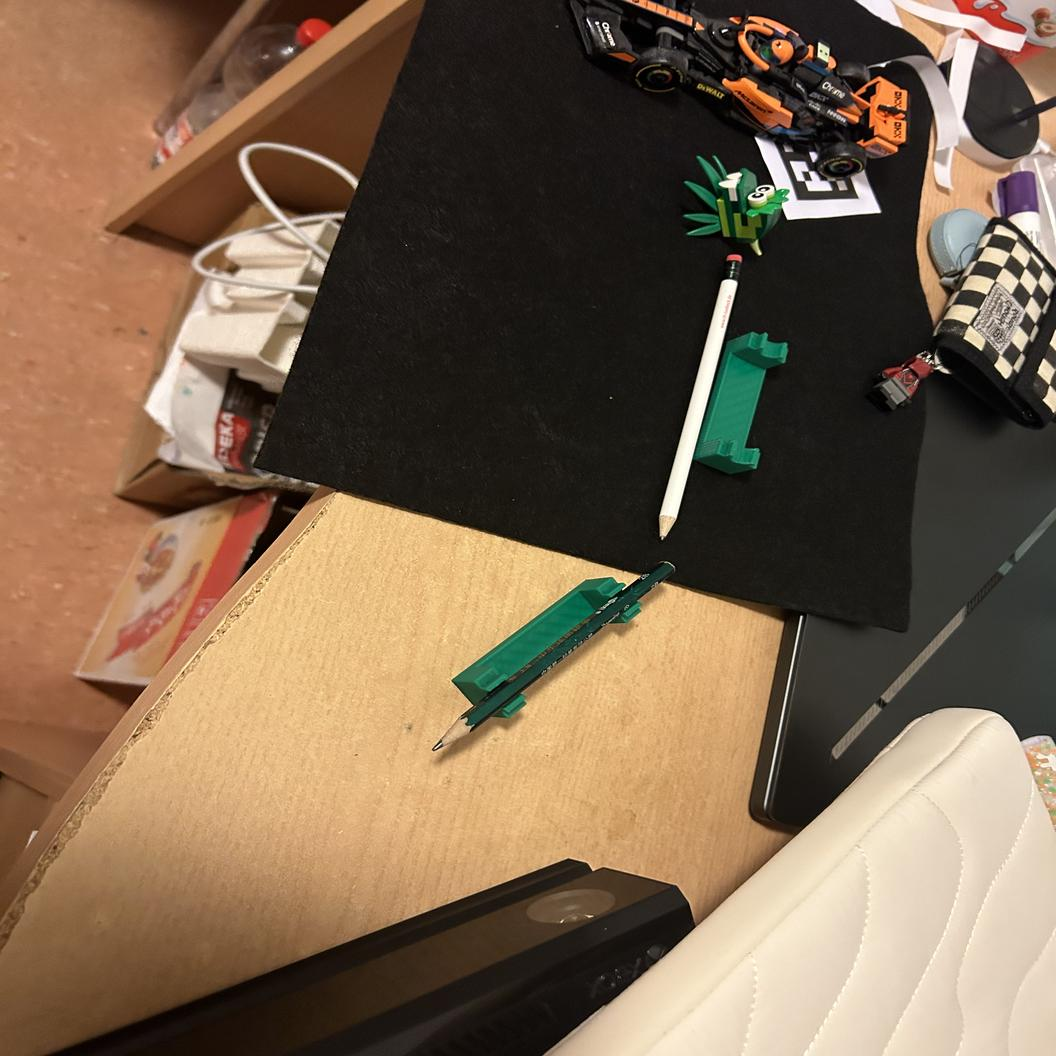X: (430, 557, 678, 751)
holder: (451, 575, 643, 720), (693, 332, 789, 475)
pencil: (431, 557, 676, 752), (658, 252, 743, 541)
